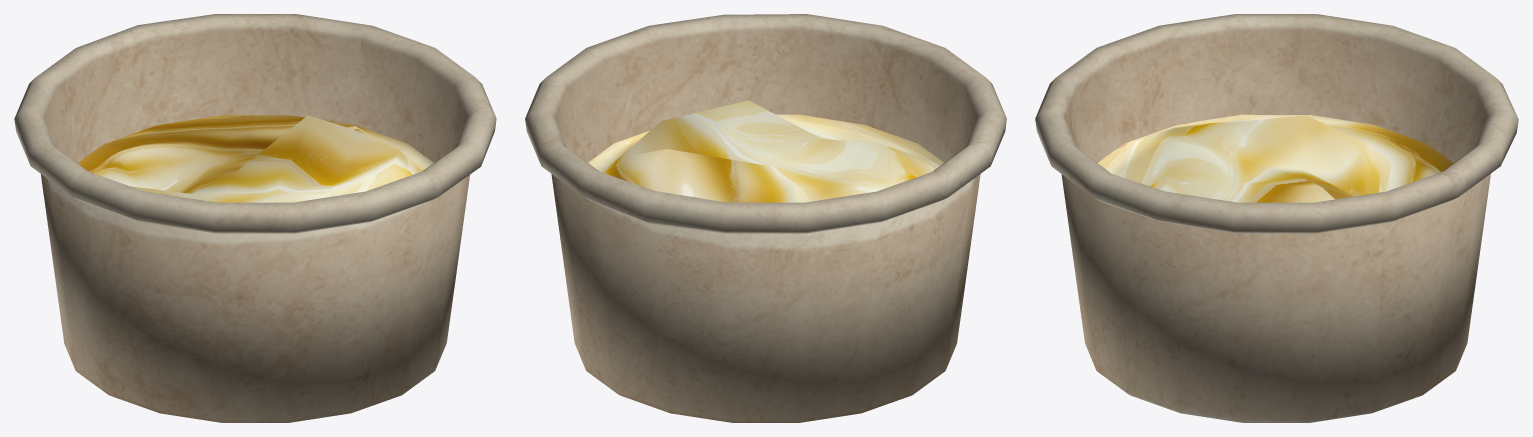
File: mayo.glb
3 views of the same model, side by side, from view 1: azimuth 30°, elevation 25°; view 2: azimuth 150°, elevation 25°; view 3: azimuth 270°, elevation 25° (orthographic).
Parts seen in each view (by area): view 1: Sauce_ranch_sauceMaterial_0; view 2: Sauce_ranch_sauceMaterial_0; view 3: Sauce_ranch_sauceMaterial_0.
Boxes of the visible parts, left/top/right/bottom form: Sauce_ranch_sauceMaterial_0: left=14, top=14, right=496, bottom=422; Sauce_ranch_sauceMaterial_0: left=525, top=14, right=1006, bottom=422; Sauce_ranch_sauceMaterial_0: left=1035, top=14, right=1518, bottom=422.
Bounding box in the file's own units: 1.49 × 0.806 × 1.51.
Materials: 1 (1 with a texture image).
